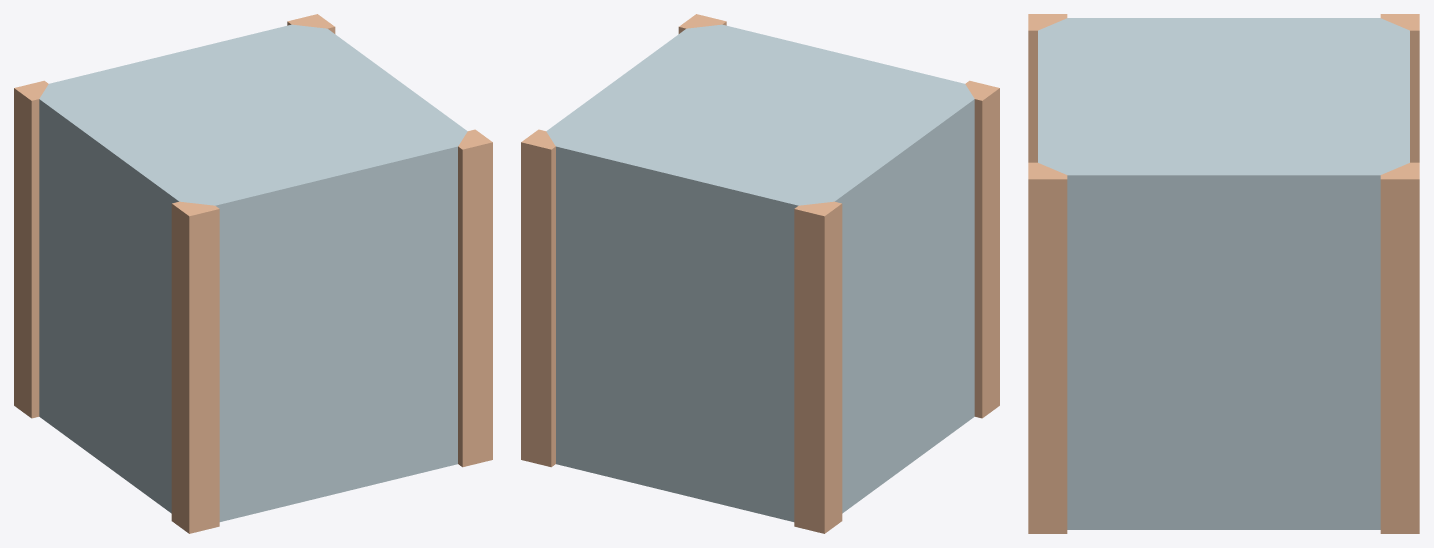
Rendered from wallBlock.glb.
3 views of the same model, side by side, from view 1: azimuth 30°, elevation 25°; view 2: azimuth 150°, elevation 25°; view 3: azimuth 270°, elevation 25° (orthographic). The views are drawn at different scales.
Parts seen in each view (by area): view 1: wallBlock; view 2: wallBlock; view 3: wallBlock.
Boxes of the visible parts, box(x1,y1,x2,y2) form: wallBlock: box(14, 14, 492, 533); wallBlock: box(521, 14, 999, 533); wallBlock: box(1028, 14, 1419, 533).
Size of the model in its own units: 1 by 1 by 1.
